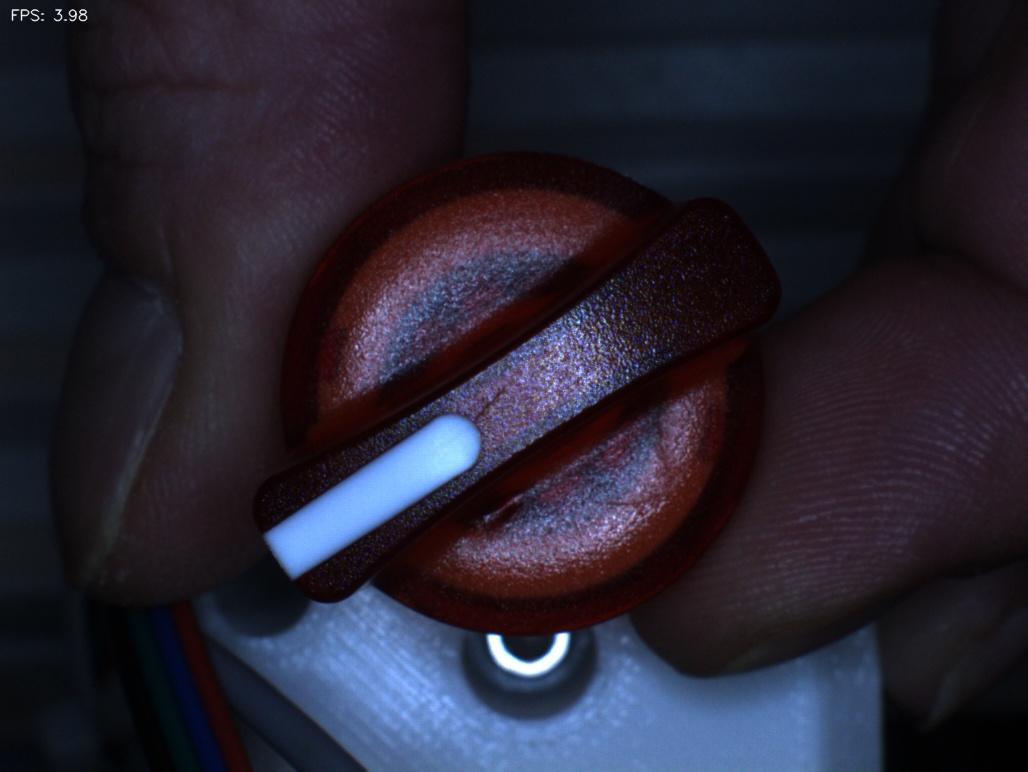Choc: (441, 462, 557, 552)
